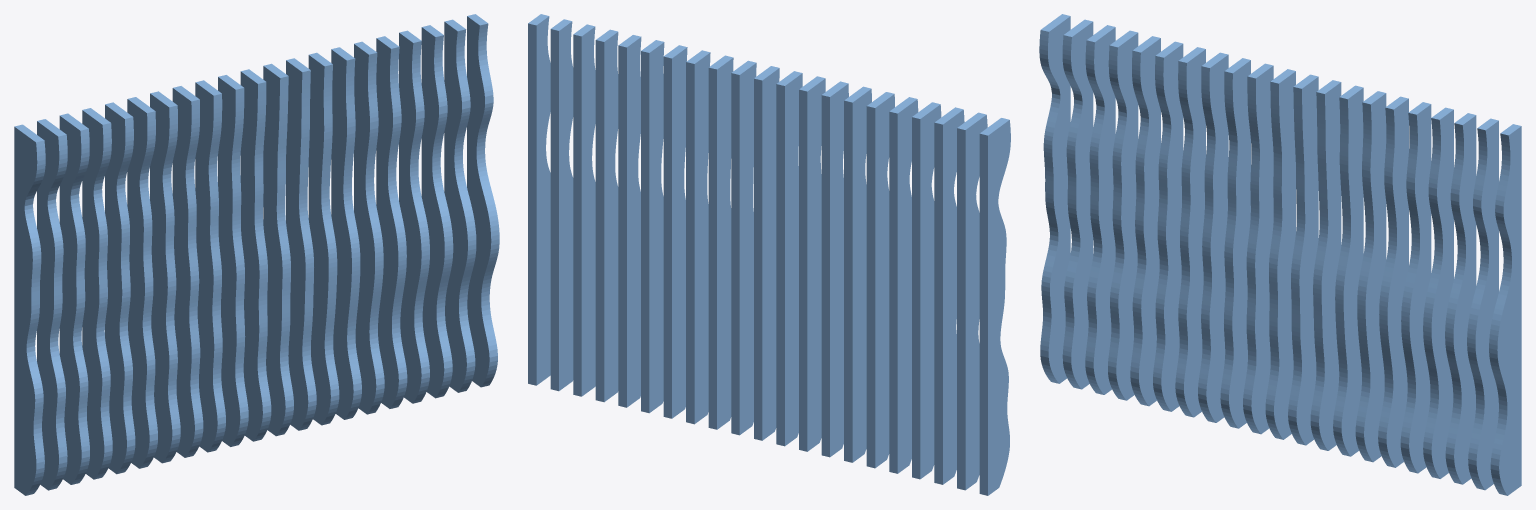
Rendered from WallTest-transformed.glb.
The picture shows the model from 3 angles, left to right: view 1: azimuth 30°, elevation 25°; view 2: azimuth 150°, elevation 25°; view 3: azimuth 330°, elevation 25°; orthographic projection.
Visible parts, largest first — view 1: no_transformations; view 2: no_transformations; view 3: no_transformations.
Part boxes in pixels (left/top/right/bottom): no_transformations: left=14, top=14, right=499, bottom=495; no_transformations: left=528, top=14, right=1010, bottom=495; no_transformations: left=1039, top=14, right=1521, bottom=495.
Bounding box in the file's own units: 326 × 244 × 29.61.
